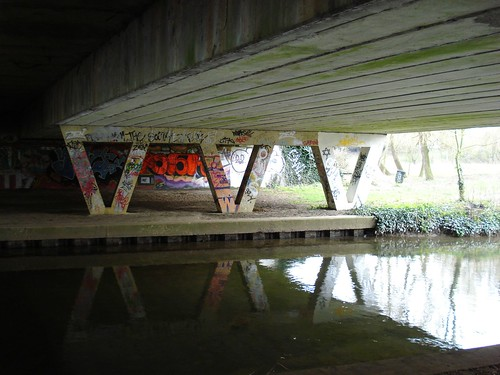graffiti: (4, 139, 130, 196), (127, 143, 227, 189)
river: (1, 230, 497, 375)
